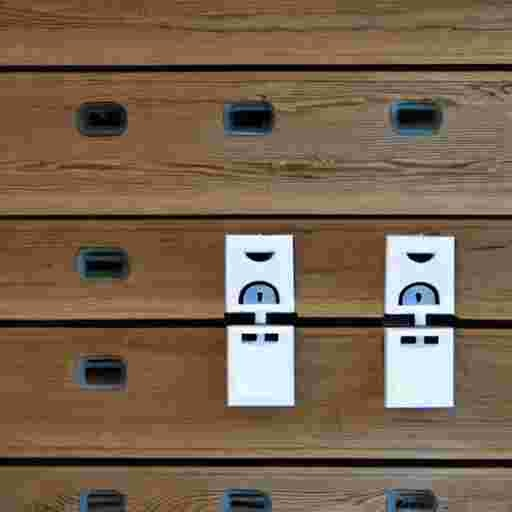power outlet: (385, 235, 454, 325), (225, 234, 294, 323), (384, 327, 453, 407), (226, 325, 294, 406)
